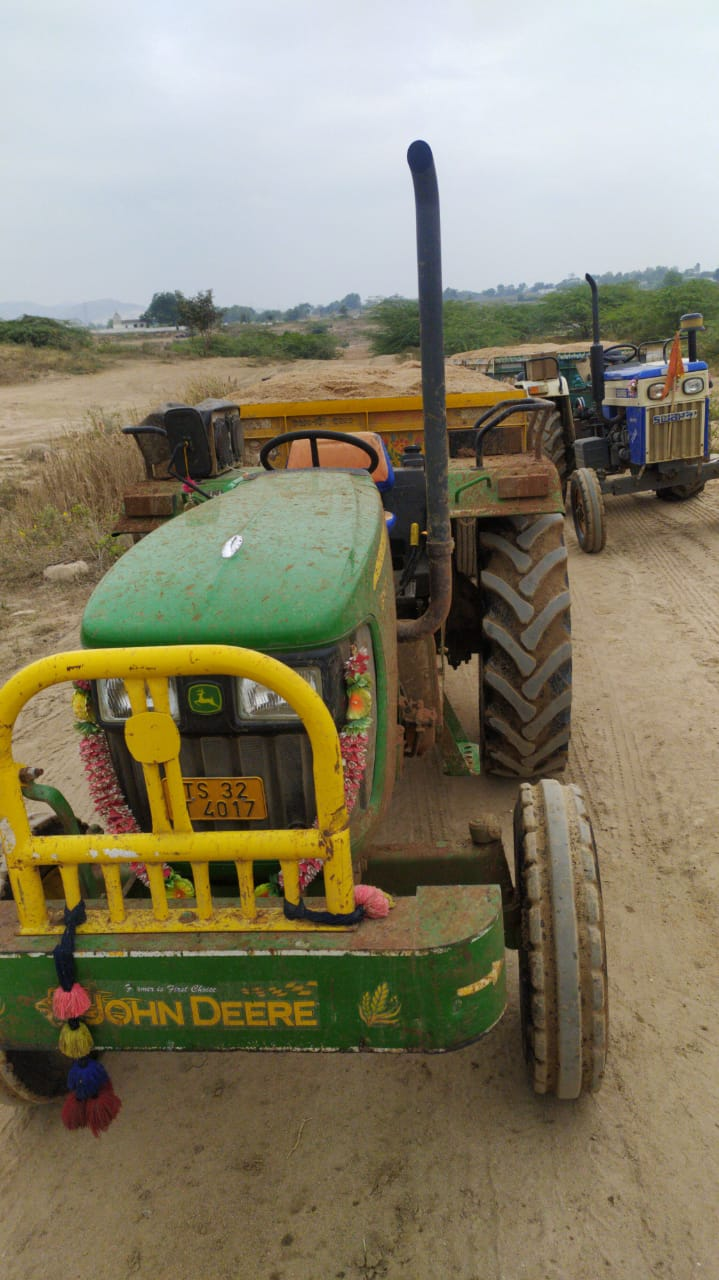license_plate: (172, 772, 282, 833)
